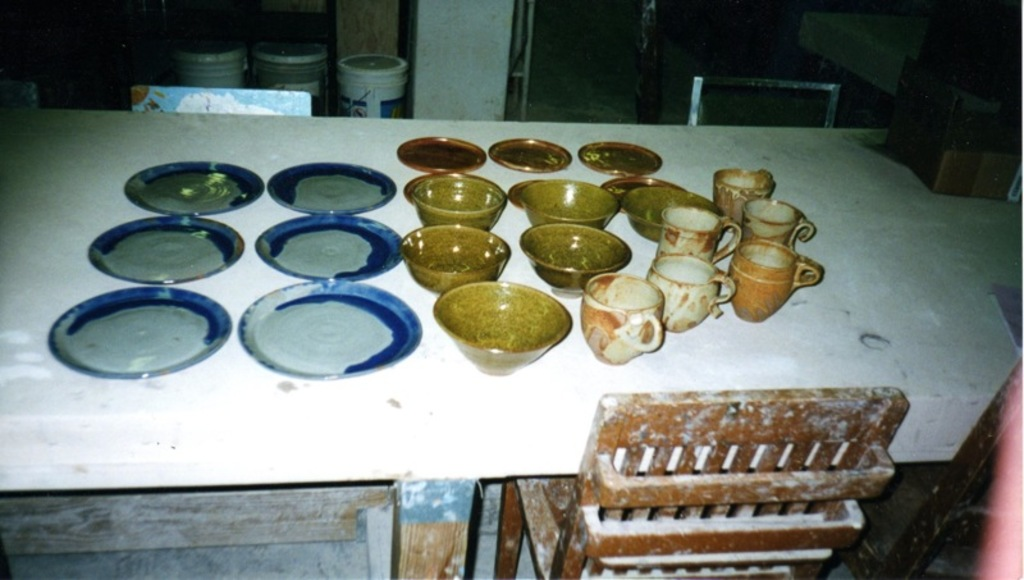plate: (240, 279, 423, 376), (38, 279, 235, 368), (83, 215, 244, 282), (120, 156, 267, 215), (266, 161, 400, 216)
